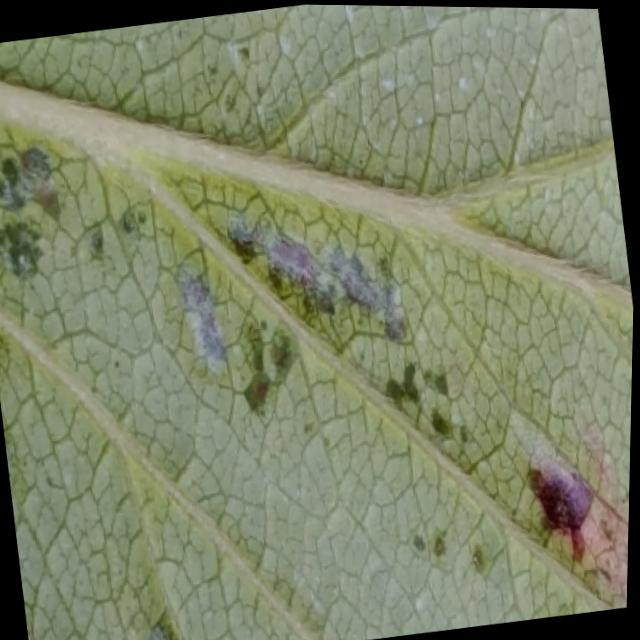Angular Leafspot: (0, 31, 633, 640)
